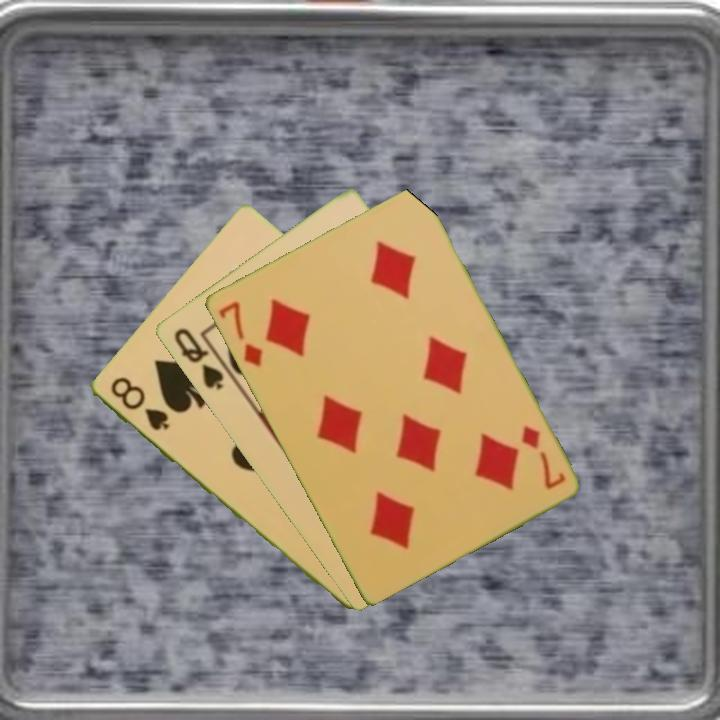7d: (214, 297, 265, 370), (516, 421, 568, 492)
8s: (106, 373, 172, 434)
Qs: (169, 324, 226, 393)
